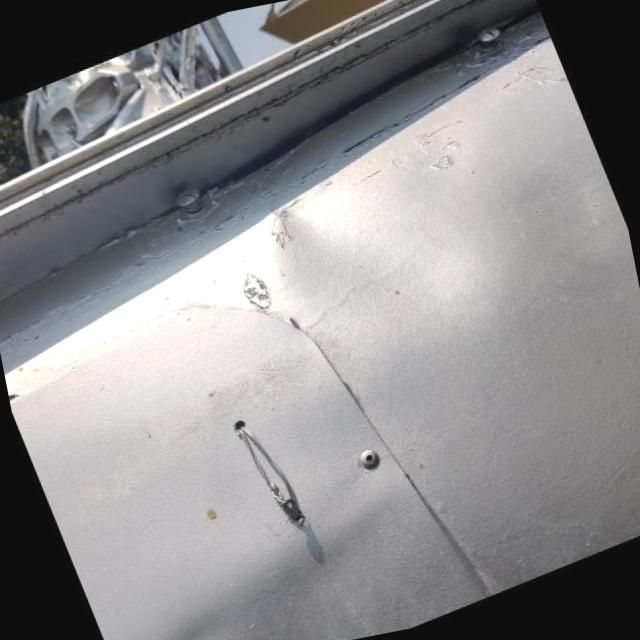dent: (236, 119, 488, 397)
